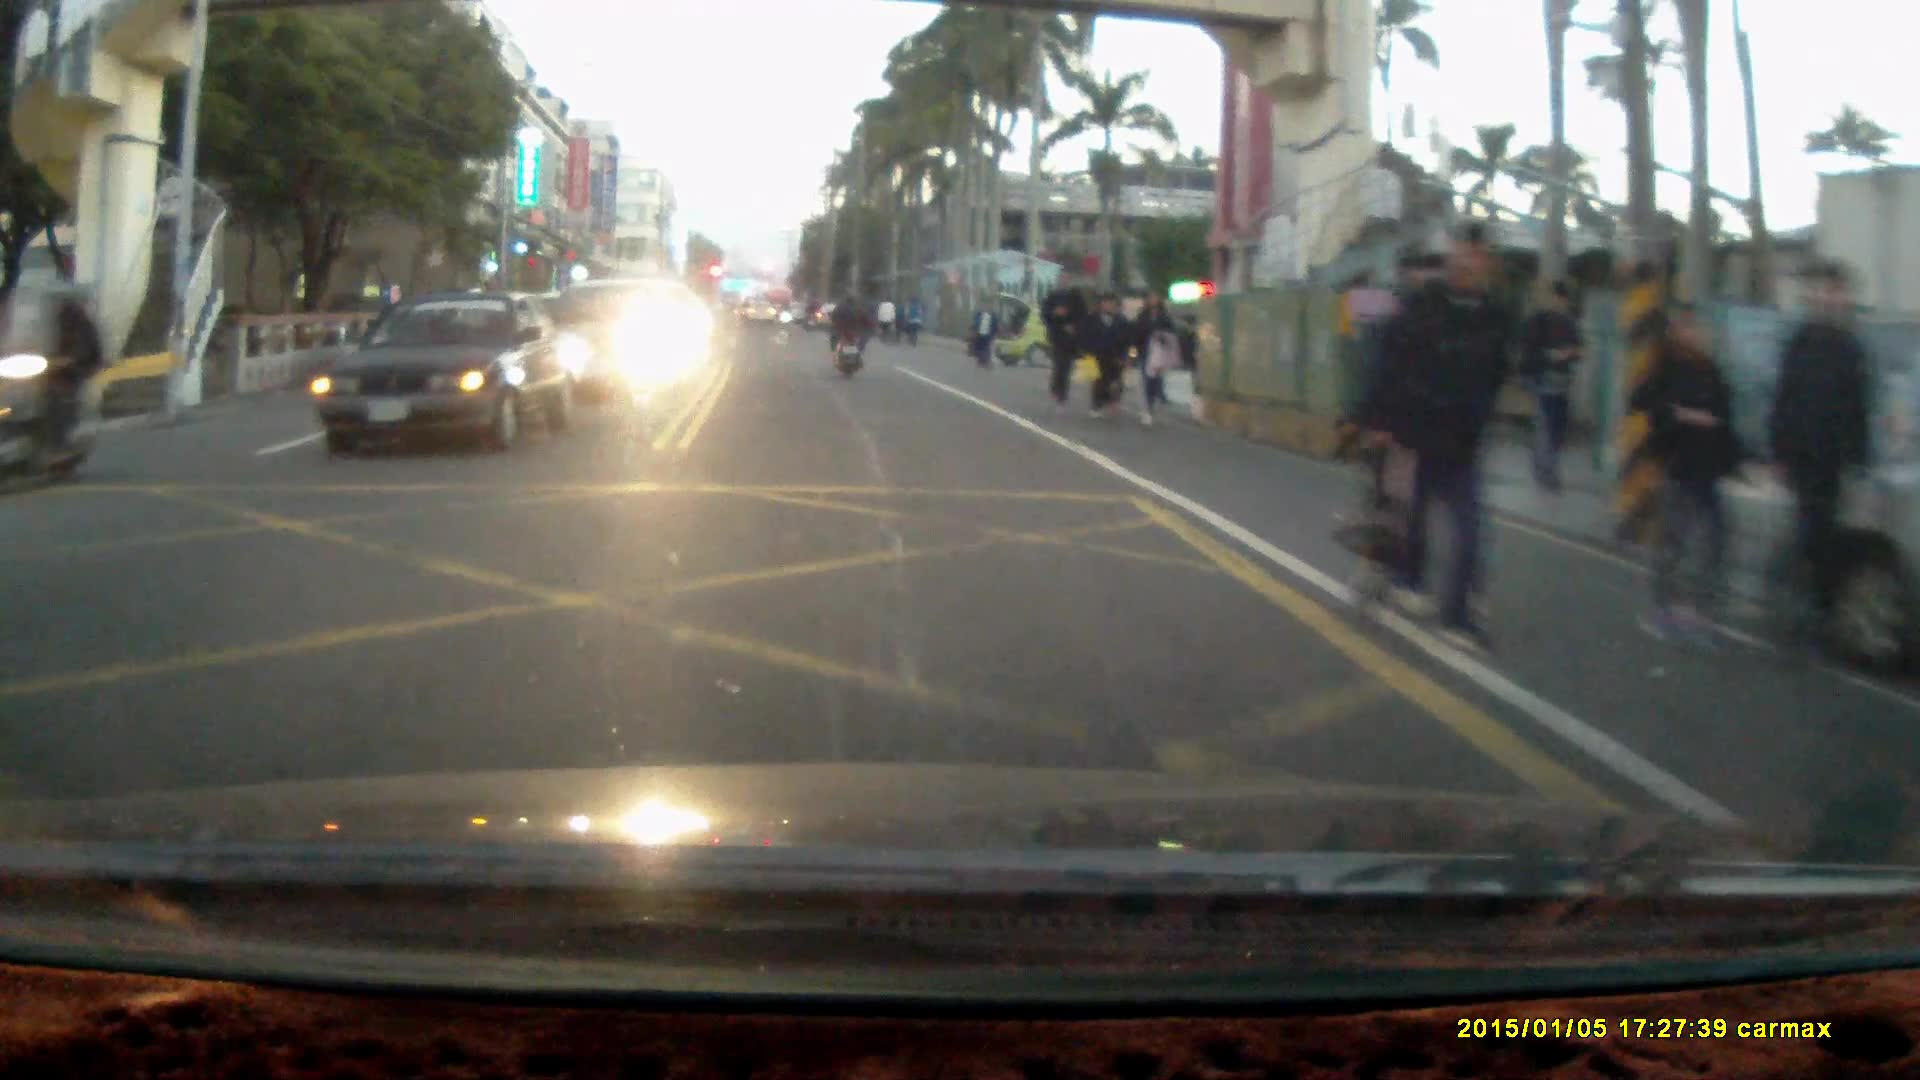pedestrian: (1373, 213, 1516, 663), (1640, 304, 1758, 667), (1766, 260, 1858, 670), (1524, 280, 1586, 499), (1038, 265, 1086, 412), (1127, 283, 1178, 422), (1082, 292, 1132, 417), (967, 297, 993, 372)
rider: (2, 276, 105, 497), (825, 287, 867, 380)
vehicle: (309, 297, 588, 455), (535, 278, 699, 403)
